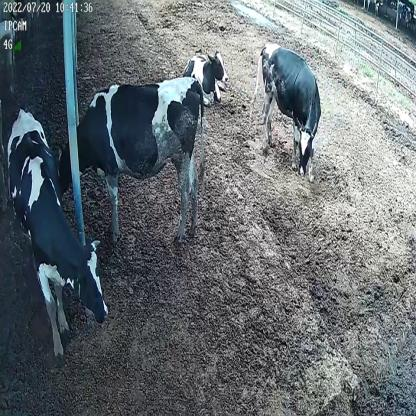cow: (7, 104, 109, 362), (55, 77, 207, 248), (250, 41, 324, 184), (182, 46, 230, 106)
